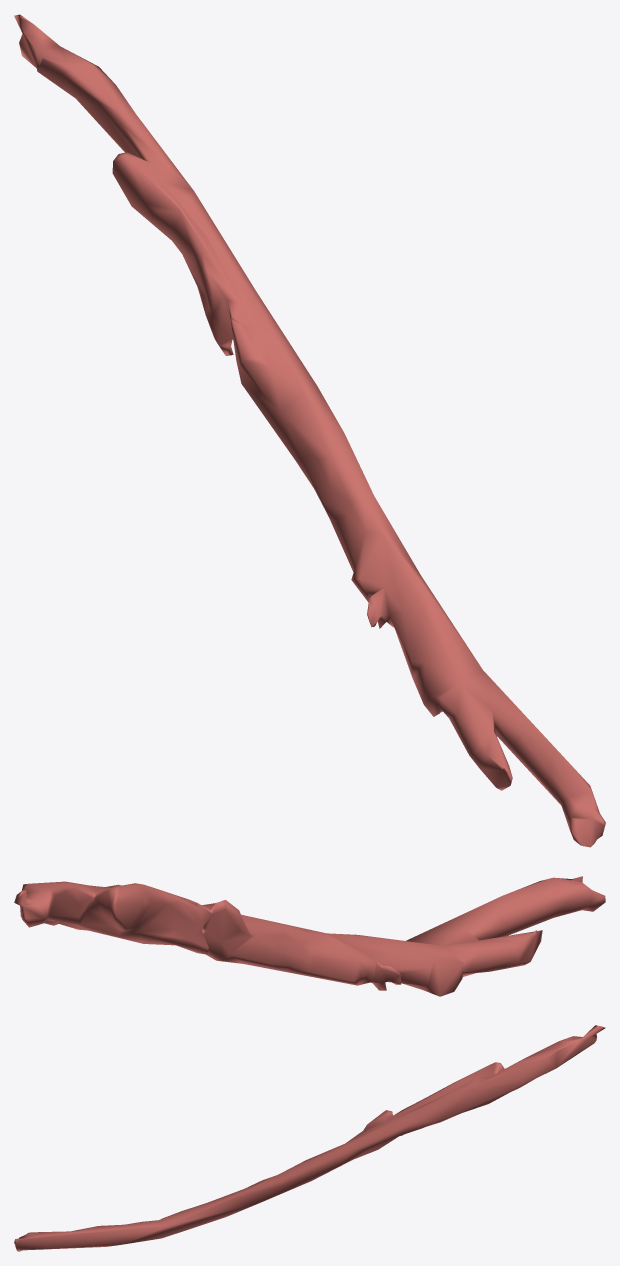
3 renders of one model, top to bottom at view 1: azimuth 30°, elevation 25°; view 2: azimuth 150°, elevation 25°; view 3: azimuth 270°, elevation 25°, orthographic. The views are drawn at different scales.
Parts seen in each view (by area): view 1: 左侧颈棘肌; view 2: 左侧颈棘肌; view 3: 左侧颈棘肌.
Part boxes in pixels (x1,y1,x2,y2): 左侧颈棘肌: [14, 14, 605, 847]; 左侧颈棘肌: [14, 876, 605, 996]; 左侧颈棘肌: [14, 1025, 605, 1251].
Size of the model in its own units: 0.0117 by 0.0646 by 0.1558.
